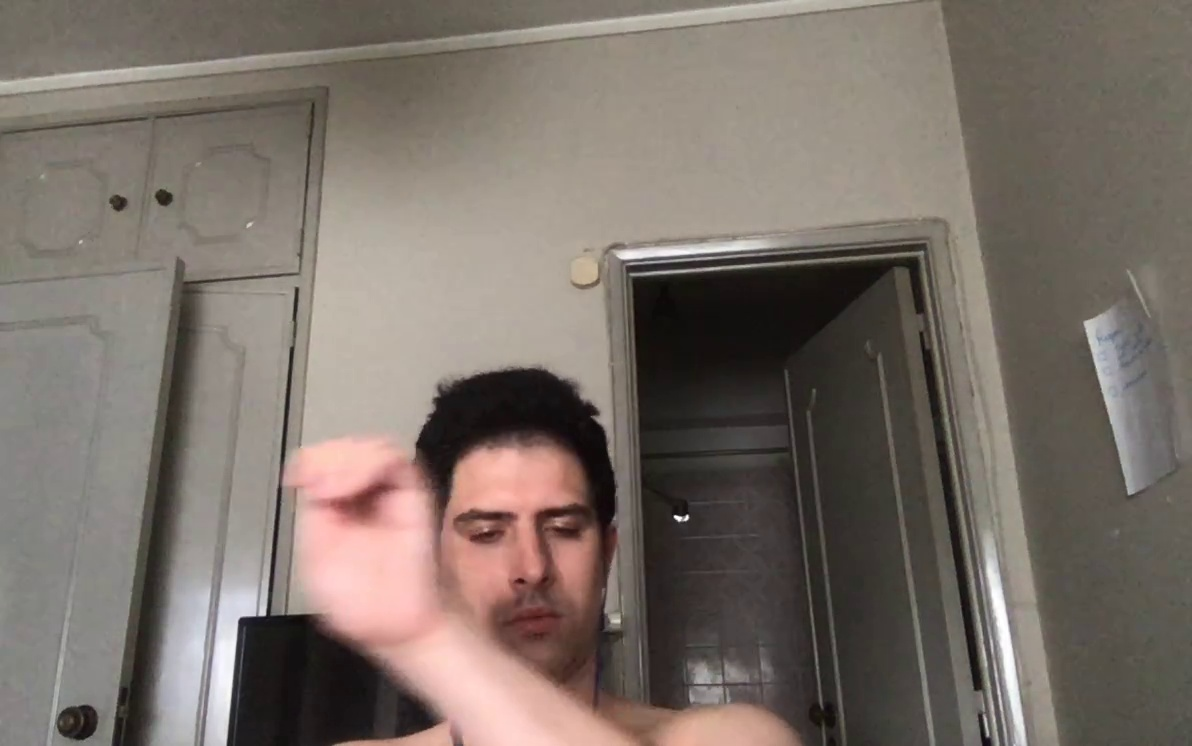c: (280, 430, 442, 657)
